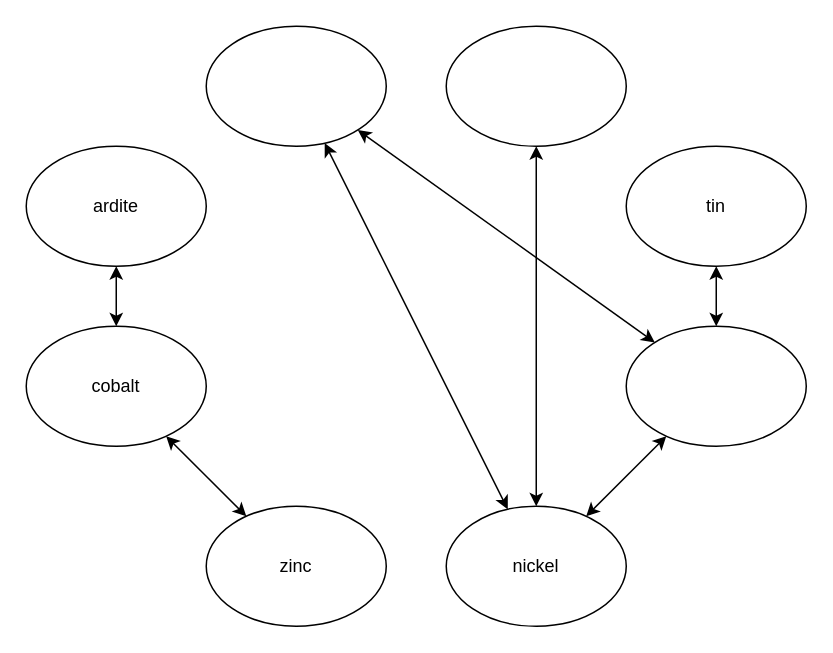
Some shapes in this 833 by 653 pixel diagram are drawn without their labels. Here are the shapes that lost their labels. From the top down, the box of each, then its label:
(205, 25, 386, 146): aluminum
(445, 25, 626, 146): iron
(625, 325, 806, 446): copper
